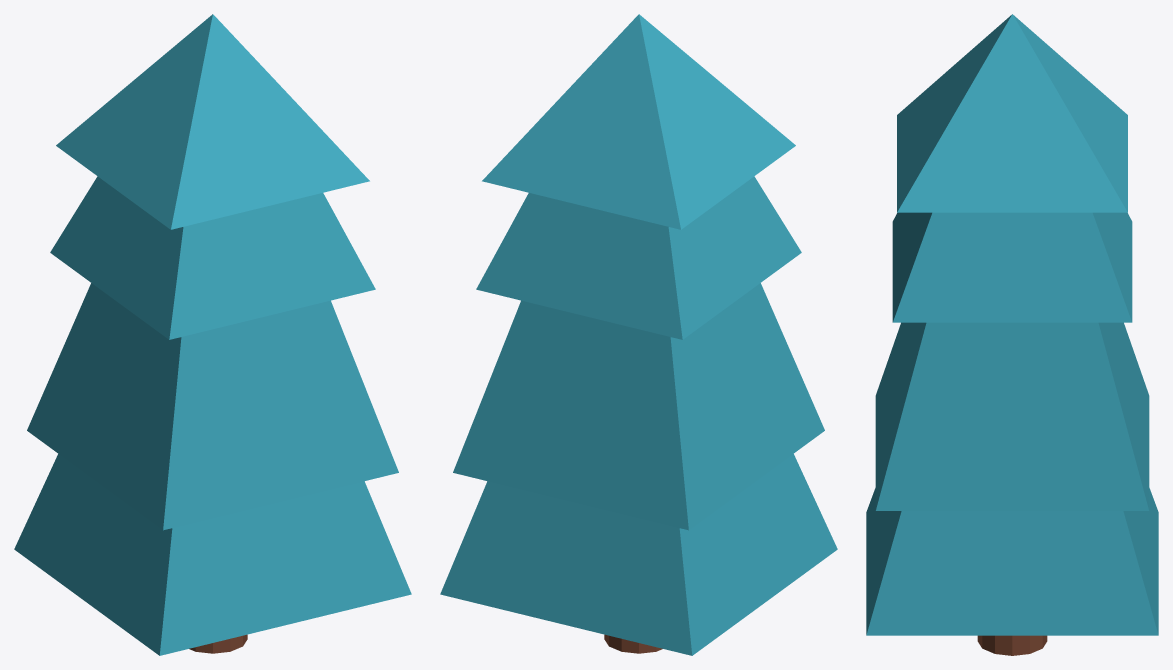
File: Tree_17_summer_blue_mat.fbx
3 renders of one model, left to right at view 1: azimuth 30°, elevation 25°; view 2: azimuth 150°, elevation 25°; view 3: azimuth 270°, elevation 25°, orthographic.
Visible parts, largest first — view 1: Tree_17_summer_blue_mat; view 2: Tree_17_summer_blue_mat; view 3: Tree_17_summer_blue_mat.
Boxes of the visible parts, left/top/right/bottom form: Tree_17_summer_blue_mat: left=14, top=14, right=411, bottom=655; Tree_17_summer_blue_mat: left=440, top=14, right=837, bottom=655; Tree_17_summer_blue_mat: left=866, top=14, right=1158, bottom=655.
Bounding box in the file's own units: 65.5 × 155 × 65.5.
